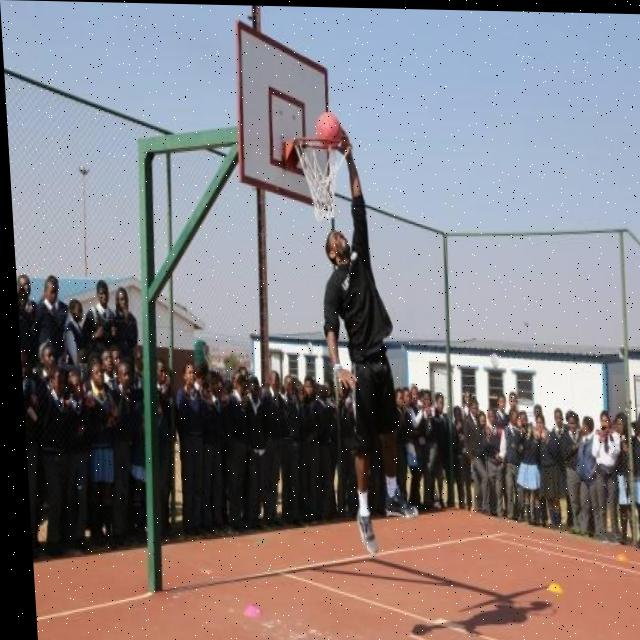basketball: (315, 111, 344, 150)
hoop: (291, 137, 350, 222)
